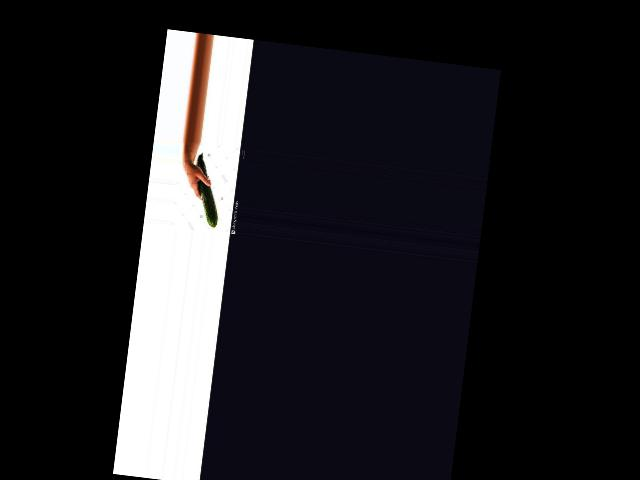cucumber: (189, 151, 226, 228)
